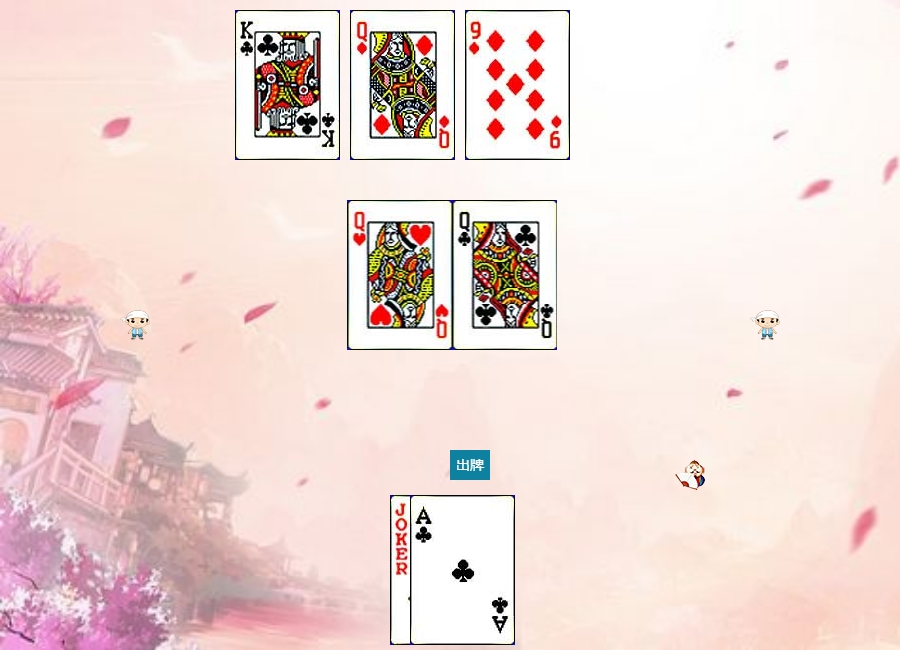12~1: (350, 10, 455, 160)
12~2: (453, 200, 558, 350)
12~3: (348, 200, 453, 350)
13~2: (235, 10, 340, 160)
14~2: (410, 495, 515, 645)
18~4: (390, 495, 495, 645)
9~1: (465, 10, 570, 160)
